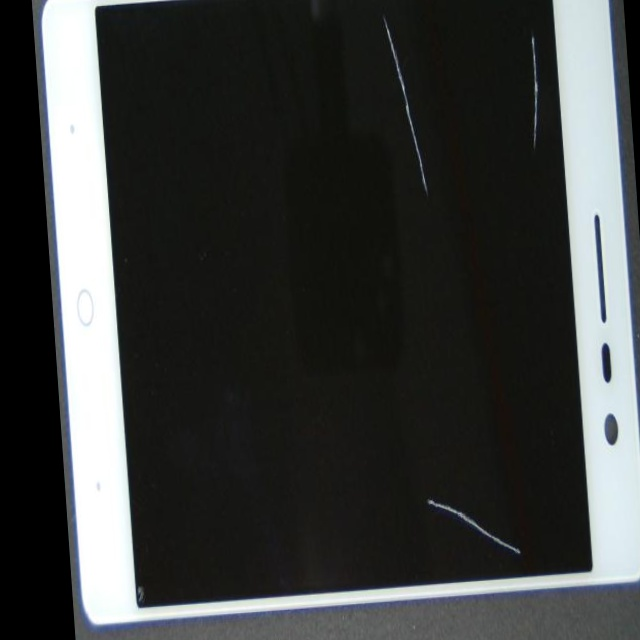scratch: (336, 246, 640, 640), (280, 0, 633, 158), (235, 0, 587, 100)
